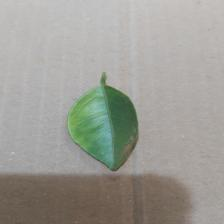healthy: (61, 68, 146, 171)
